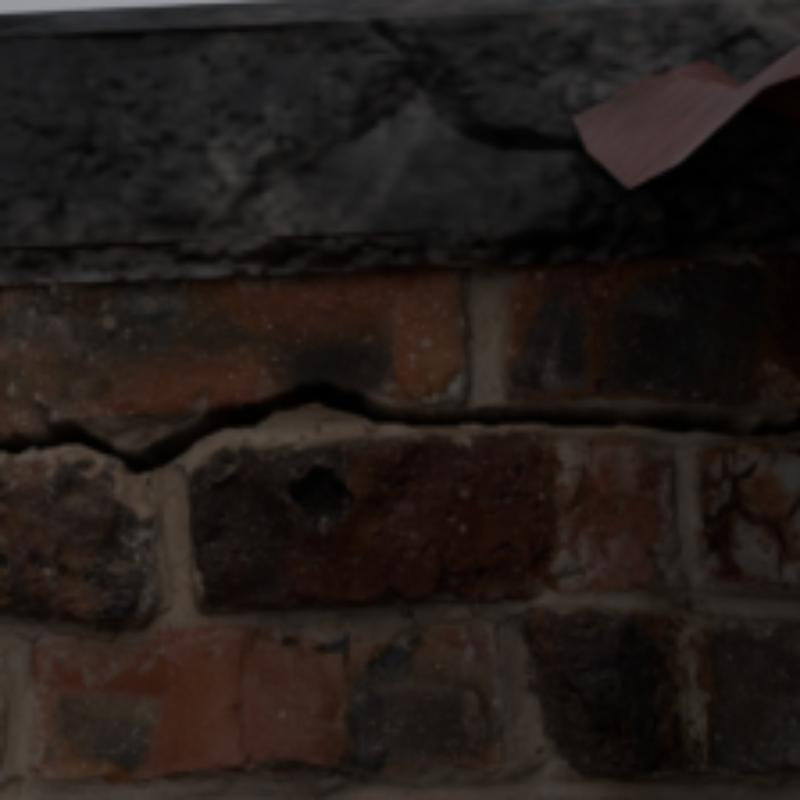pothole: (0, 379, 796, 471), (714, 461, 796, 564), (236, 632, 257, 761)
